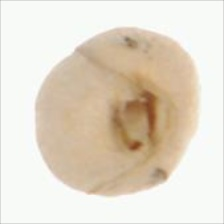L3: (112, 89, 175, 160)
L4: (34, 27, 200, 197)
